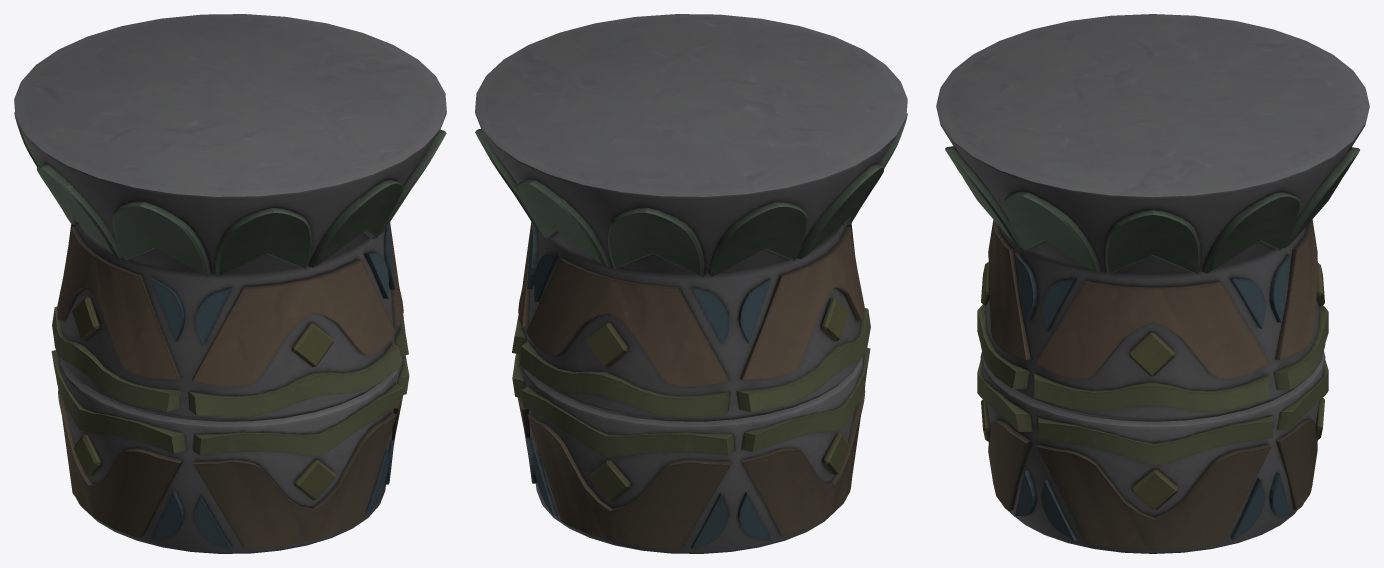
The model's file is totem2Crash.obj.
The picture shows the model from 3 angles, left to right: view 1: azimuth 30°, elevation 25°; view 2: azimuth 150°, elevation 25°; view 3: azimuth 270°, elevation 25°; orthographic projection.
Parts seen in each view (by area): view 1: totem3_paint_Material.002; view 2: totem3_paint_Material.002; view 3: totem3_paint_Material.002.
Boxes of the visible parts, x1,y1,x2,y2 form: totem3_paint_Material.002: (14,14,446,553); totem3_paint_Material.002: (475,14,907,553); totem3_paint_Material.002: (936,14,1369,553).
Bounding box in the file's own units: 1.65 × 1.62 × 1.65.
